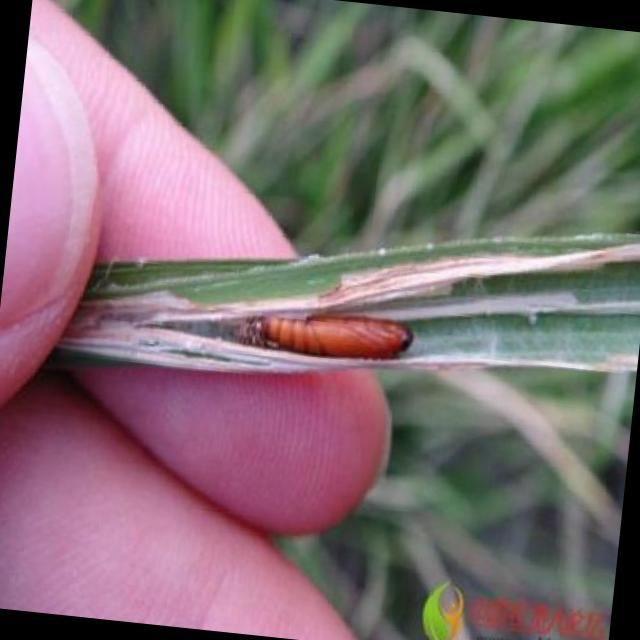leaf-folder: (240, 292, 428, 383)
